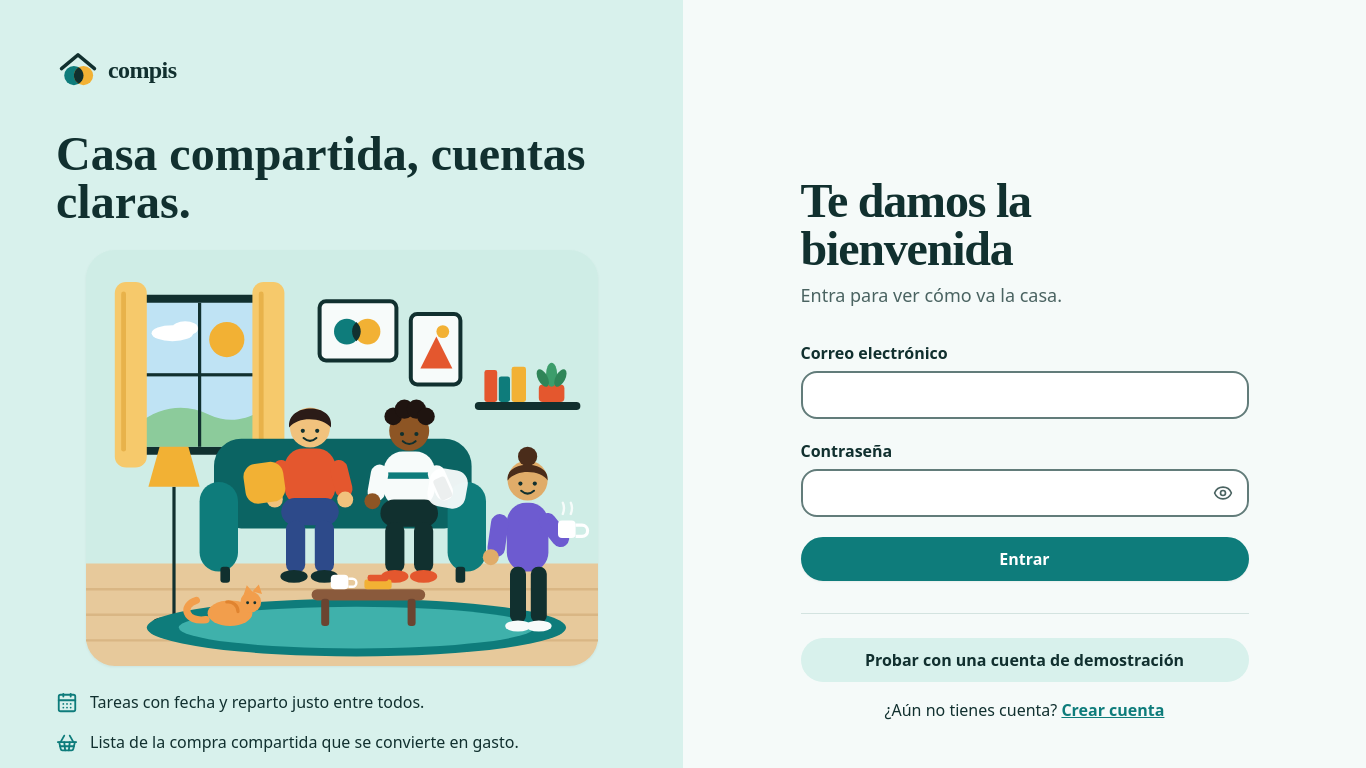
login › shows the server message when credentials are wrong
Type "a@b.com" into the field labelled "Correo electrónico" at (1024, 394), box [800,370,1248,418]
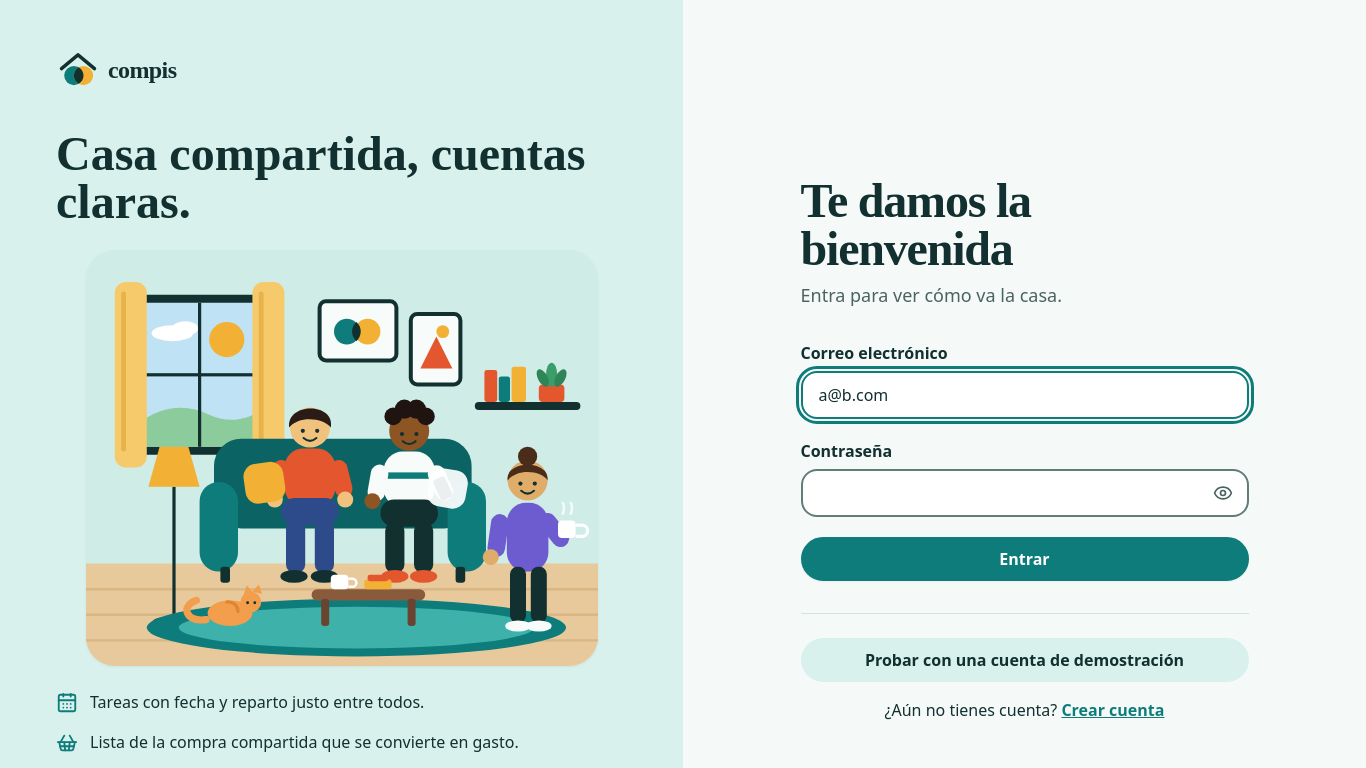
Type "wrong-password" into the password field labelled "Contraseña" at (1024, 492), box [800,468,1248,516]
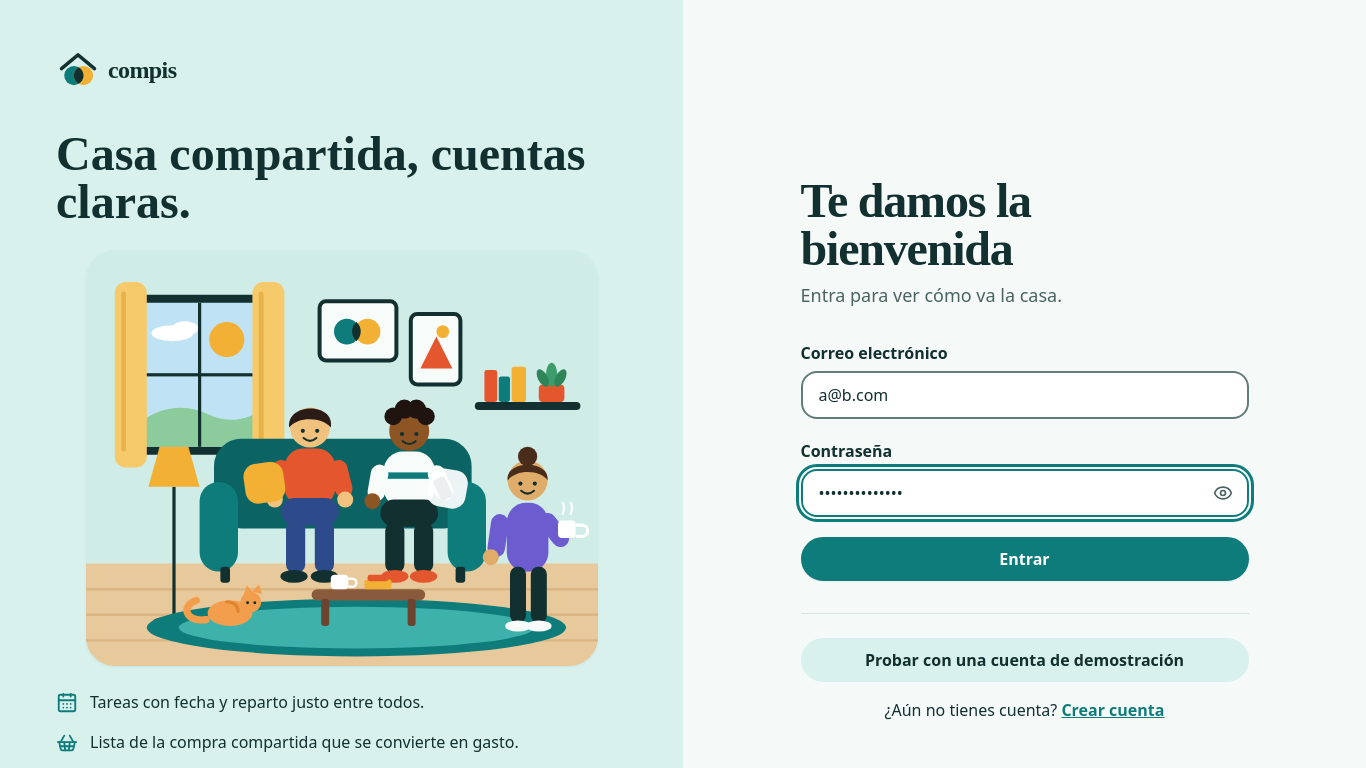
Click the button "Entrar" at (1024, 558), box [800,536,1248,580]
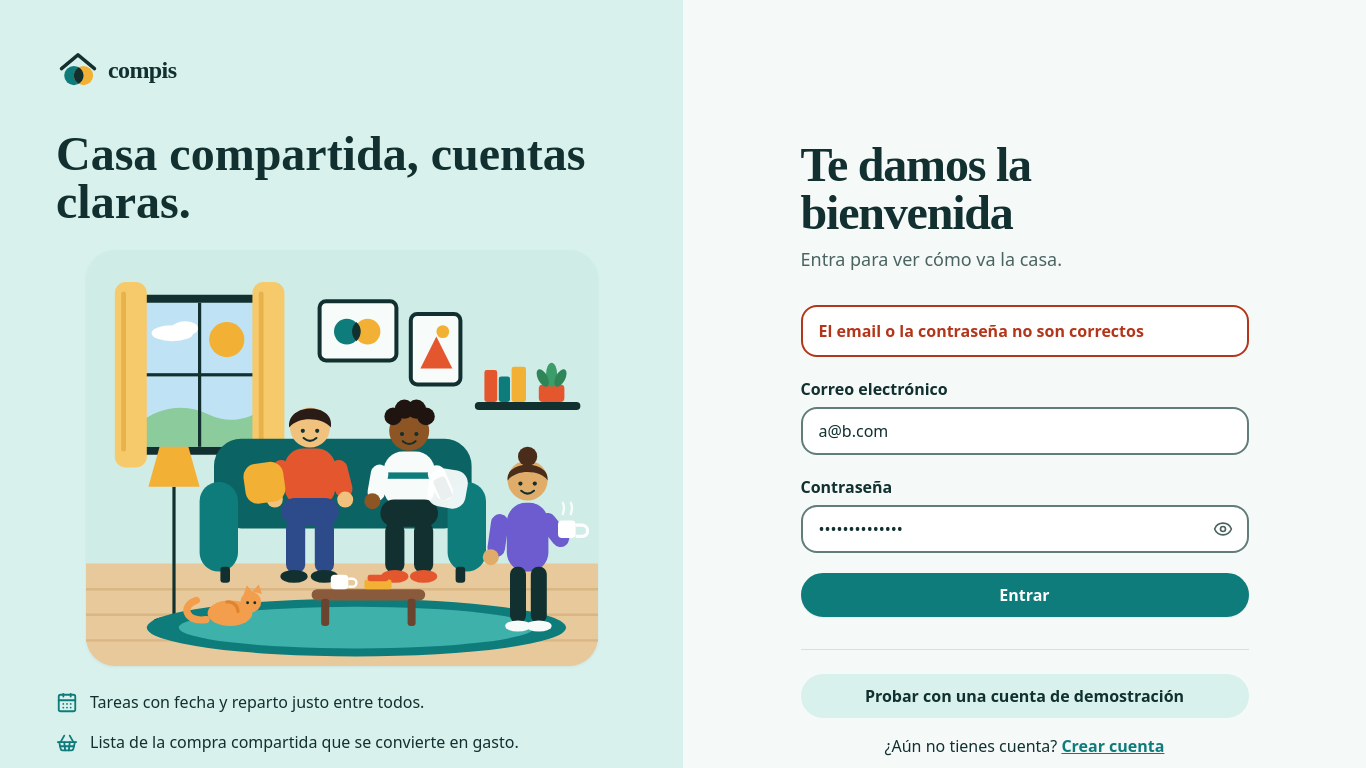
Result: the message reads "El email o la contraseña no son correctos" at [818,320,1144,342]
